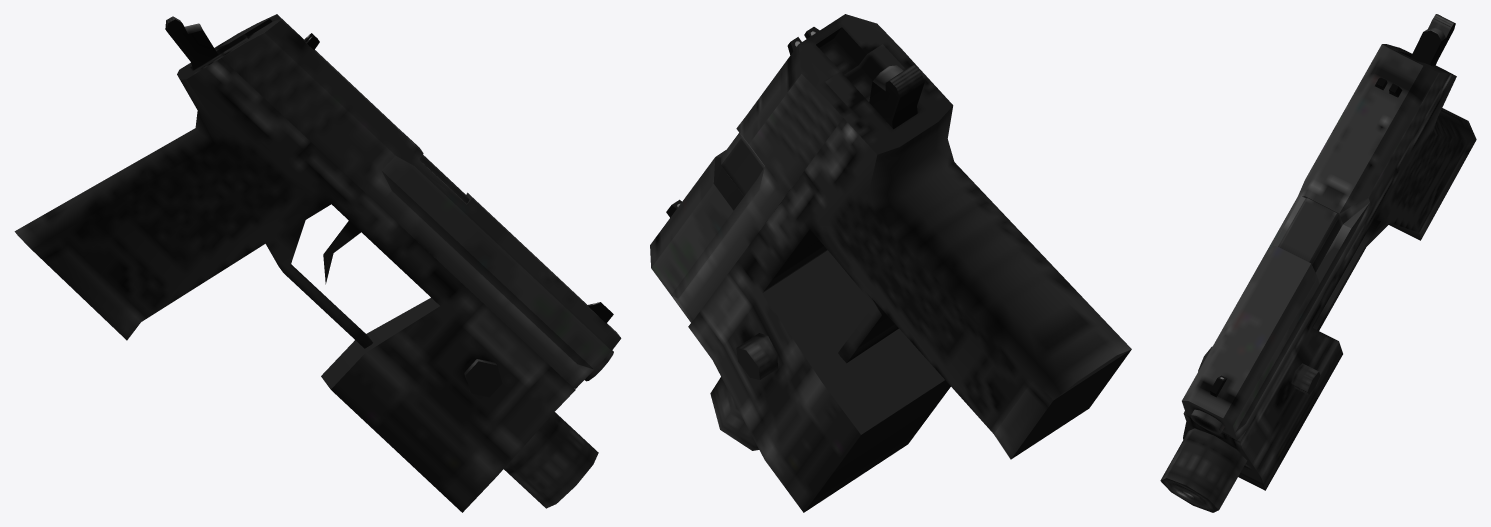
The model's file is mgs2.ico.obj.
3 renders of one model, left to right at view 1: azimuth 30°, elevation 25°; view 2: azimuth 150°, elevation 25°; view 3: azimuth 270°, elevation 25°, orthographic. The views are drawn at different scales.
Bounding box in the file's own units: 3.43 × 3.13 × 2.25.
1 material, 1 textured.
